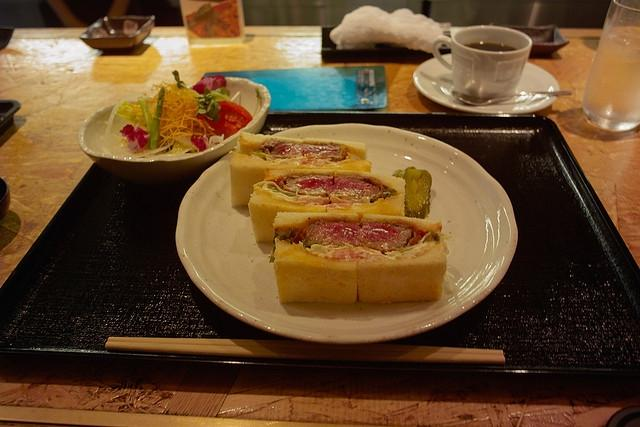tomato: (198, 101, 252, 141), (192, 134, 206, 152)
